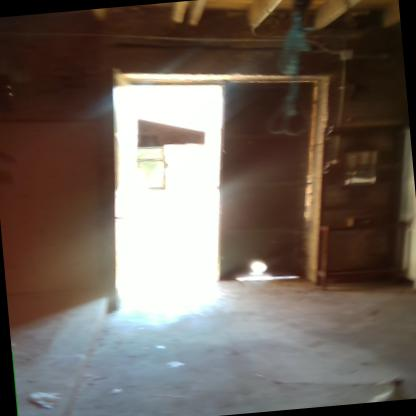open: (83, 32, 356, 322)
